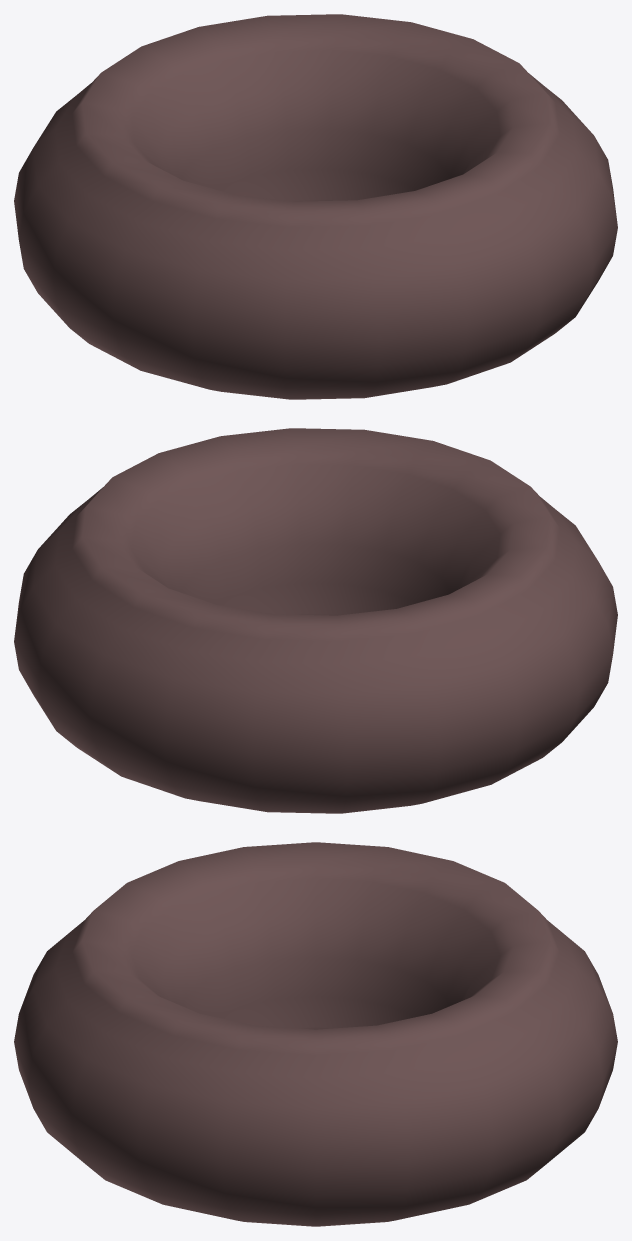
File: Donut.fbx
3 renders of one model, top to bottom at view 1: azimuth 30°, elevation 25°; view 2: azimuth 150°, elevation 25°; view 3: azimuth 270°, elevation 25°, orthographic.
Parts seen in each view (by area): view 1: pTorus1; view 2: pTorus1; view 3: pTorus1.
Part boxes in pixels (bbox=[...]): pTorus1: bbox=[14, 14, 617, 399]; pTorus1: bbox=[14, 428, 617, 813]; pTorus1: bbox=[14, 842, 617, 1226].
Size of the model in its own units: 30 by 10.53 by 30.
